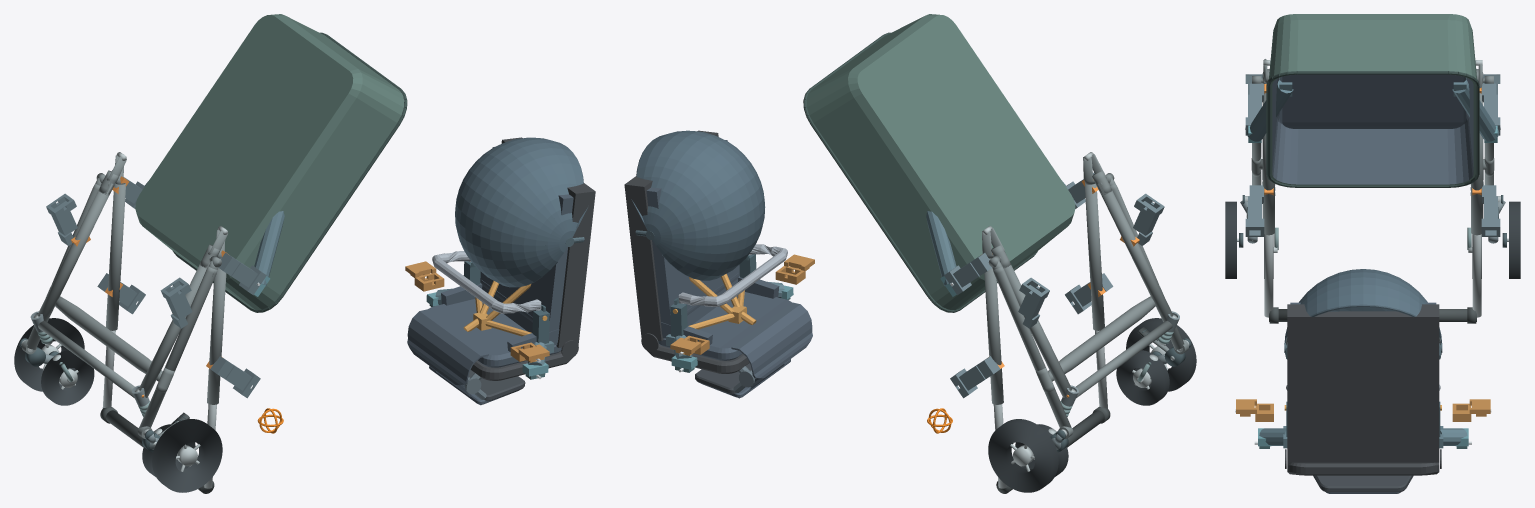
Rendered from D11_w650_state3_wheel_S.glb.
3 renders of one model, left to right at view 1: azimuth 30°, elevation 25°; view 2: azimuth 150°, elevation 25°; view 3: azimuth 270°, elevation 25°, orthographic. The views are drawn at different scales.
Visible parts, largest first — view 1: D11_Lower, D11_Upper, RL_tire.011, FR_tire.011, main_upper_1.012, V46_rearbar.011, main_lower_1.012, V46_rear_leg_-1.011, main_upper_-1.012, RR_tire.011, main_lower_-1.012, front_fixed_round_tube.011 (+9 smaller); view 2: D11_Lower, D11_Upper, RR_tire.011, FL_tire.011, main_upper_-1.012, main_lower_-1.012, V46_rearbar.011, V46_rear_leg_1.011, main_upper_1.012, RL_tire.011, main_lower_1.012, front_fixed_round_tube.011 (+9 smaller); view 3: D11_Lower, D11_Upper, D11_Lower_Mount_M, D11_Upper_Mount_H, RL_tire.011, RR_tire.011, main_upper_1.012, main_upper_-1.012, Universal_Cabin_Receiver_H_1, Universal_Cabin_Receiver_H_-1, handle_slider_1.013, handle_slider_-1.013 (+5 smaller).
Part boxes in pixels (x1,y1,x2,y2): D11_Lower: (135, 14, 407, 312); D11_Upper: (407, 137, 595, 405); RL_tire.011: (152, 419, 222, 492); FR_tire.011: (41, 350, 94, 405); main_upper_1.012: (106, 183, 125, 330); V46_rearbar.011: (55, 296, 162, 381); main_lower_1.012: (37, 183, 113, 321); V46_rear_leg_-1.011: (139, 266, 217, 427); main_upper_-1.012: (207, 258, 226, 404); RR_tire.011: (14, 318, 84, 391); main_lower_-1.012: (138, 263, 209, 397); front_fixed_round_tube.011: (38, 321, 134, 398); D11_Lower: (803, 14, 1075, 312); D11_Upper: (624, 130, 812, 398); RR_tire.011: (988, 419, 1058, 492); FL_tire.011: (1116, 350, 1169, 405); main_upper_-1.012: (1085, 183, 1104, 330); main_lower_-1.012: (1097, 183, 1173, 321); V46_rearbar.011: (1048, 296, 1155, 381); V46_rear_leg_1.011: (993, 266, 1070, 427); main_upper_1.012: (984, 258, 1003, 404); RL_tire.011: (1126, 318, 1196, 391); main_lower_1.012: (1001, 263, 1071, 397); front_fixed_round_tube.011: (1076, 321, 1172, 398); D11_Lower: (1266, 14, 1479, 187); D11_Upper: (1284, 269, 1442, 493); D11_Lower_Mount_M: (1245, 78, 1500, 142); D11_Upper_Mount_H: (1254, 426, 1471, 448); RL_tire.011: (1225, 201, 1236, 278); RR_tire.011: (1509, 201, 1520, 278); main_upper_1.012: (1471, 90, 1483, 235); main_upper_-1.012: (1262, 90, 1274, 235); Universal_Cabin_Receiver_H_1: (1481, 185, 1500, 236); Universal_Cabin_Receiver_H_-1: (1245, 185, 1264, 236); handle_slider_1.013: (1472, 234, 1481, 317); handle_slider_-1.013: (1264, 234, 1273, 317).
Bounding box in the file's own units: 1.48 × 1.12 × 0.766.
